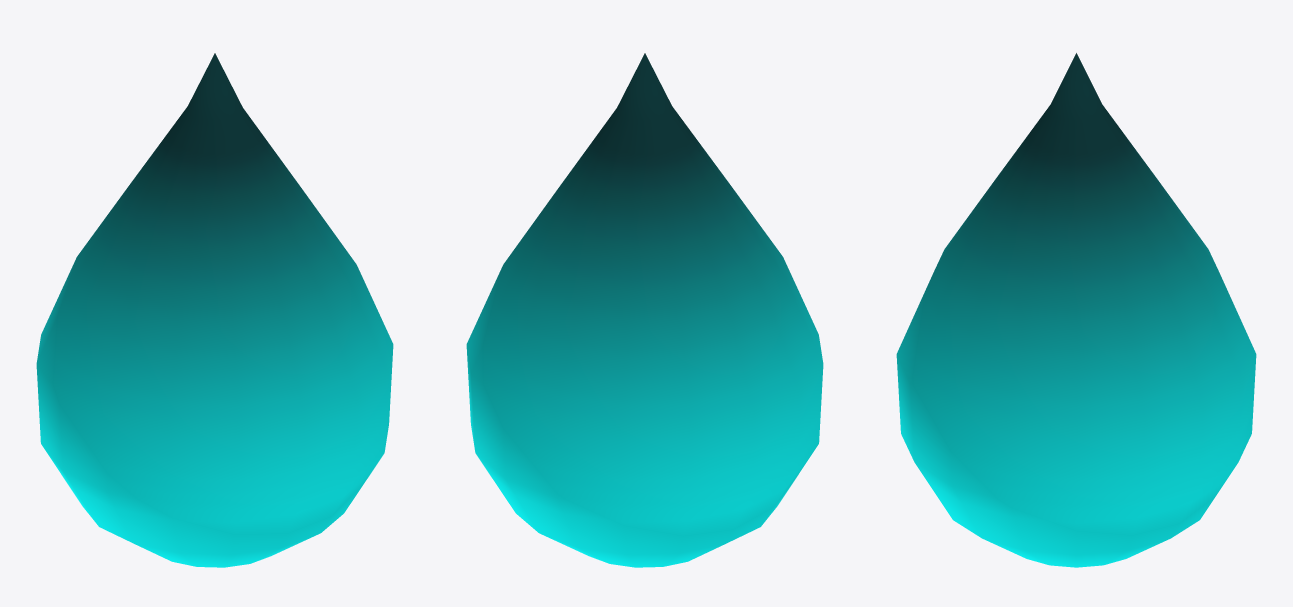
File: waterDrop.glb
The picture shows the model from 3 angles, left to right: view 1: azimuth 30°, elevation 25°; view 2: azimuth 150°, elevation 25°; view 3: azimuth 270°, elevation 25°; orthographic projection.
Parts seen in each view (by area): view 1: WaterDrop; view 2: WaterDrop; view 3: WaterDrop.
Boxes of the visible parts, left/top/right/bottom form: WaterDrop: left=36, top=53, right=393, bottom=567; WaterDrop: left=466, top=53, right=823, bottom=567; WaterDrop: left=896, top=53, right=1256, bottom=567.
Bounding box in the file's own units: 0.6618 × 1 × 0.6618.
2 materials, 2 textured.
